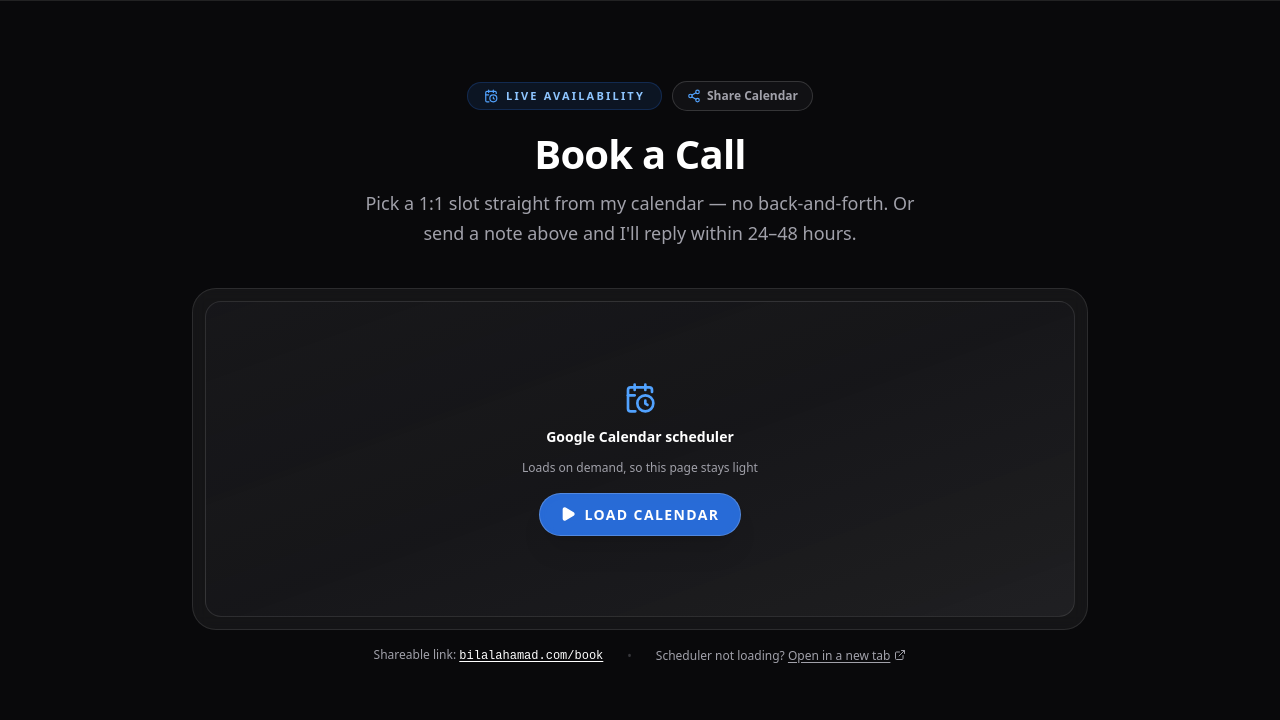
BookingEmbed › copies /book link to clipboard when Share Calendar button is clicked
This screenshot has width=1280, height=720.
Click the button with aria-label "Share calendar booking link": [742, 96] box [672,81,813,111]
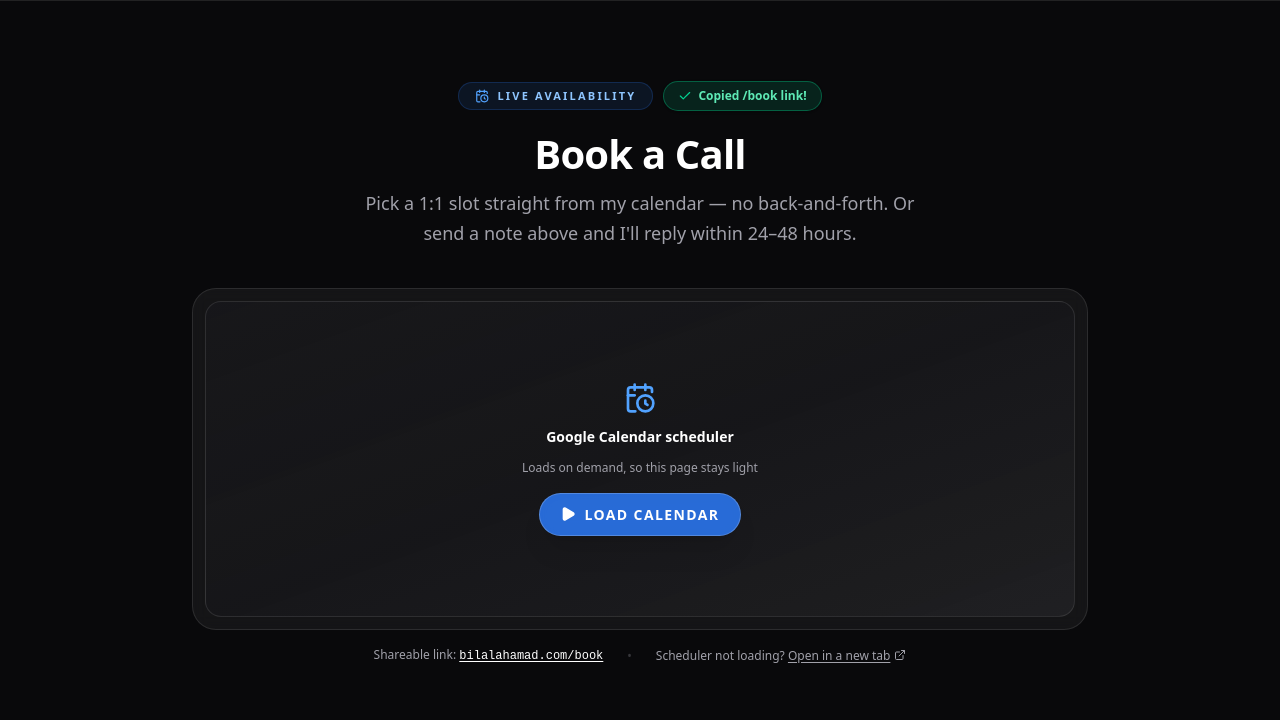
Result: the text "Copied /book link!" is shown at [698,88,807,104]
